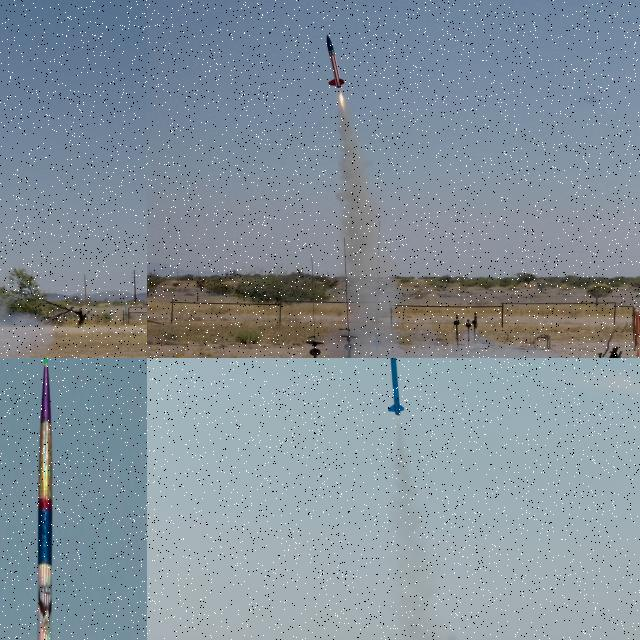Rocket: (23, 358, 64, 640), (326, 34, 345, 89), (386, 358, 404, 416)
